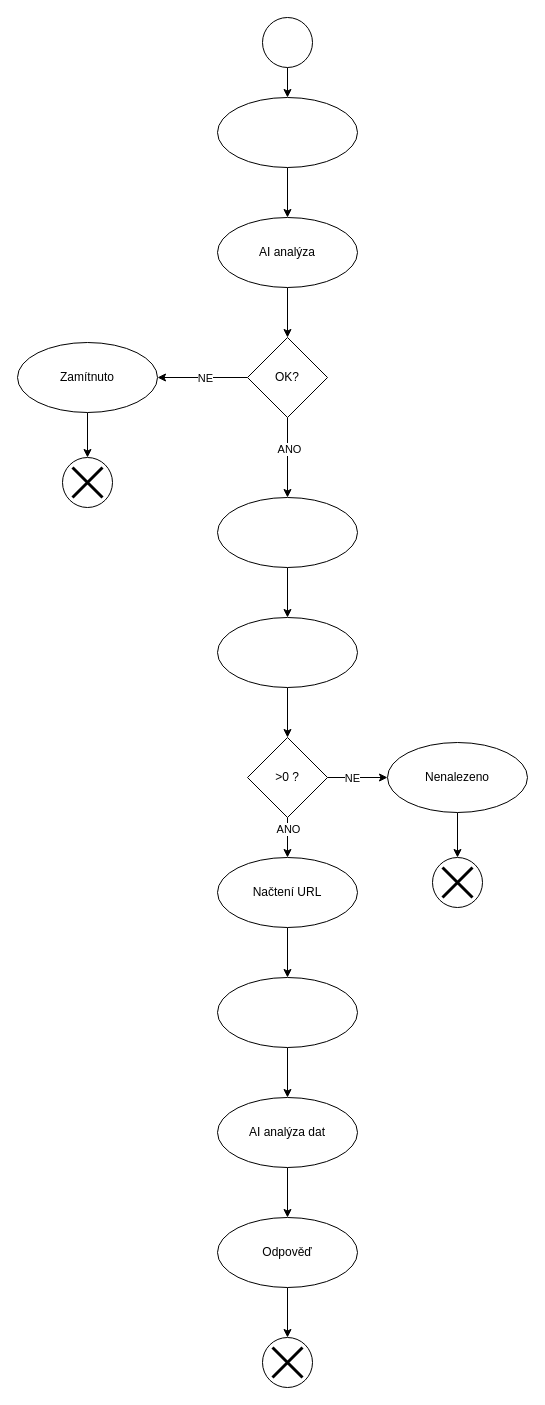
Some shapes in this 545 by 1405 pixel diagram are drawn without their labels. The centre of each missing label's shape, as x and y in pixels:
Dotaz: [287,132]
Google API search: [287,652]
Stažení obsahu: [287,1012]
Vygenerovaný dotaz: [287,532]
